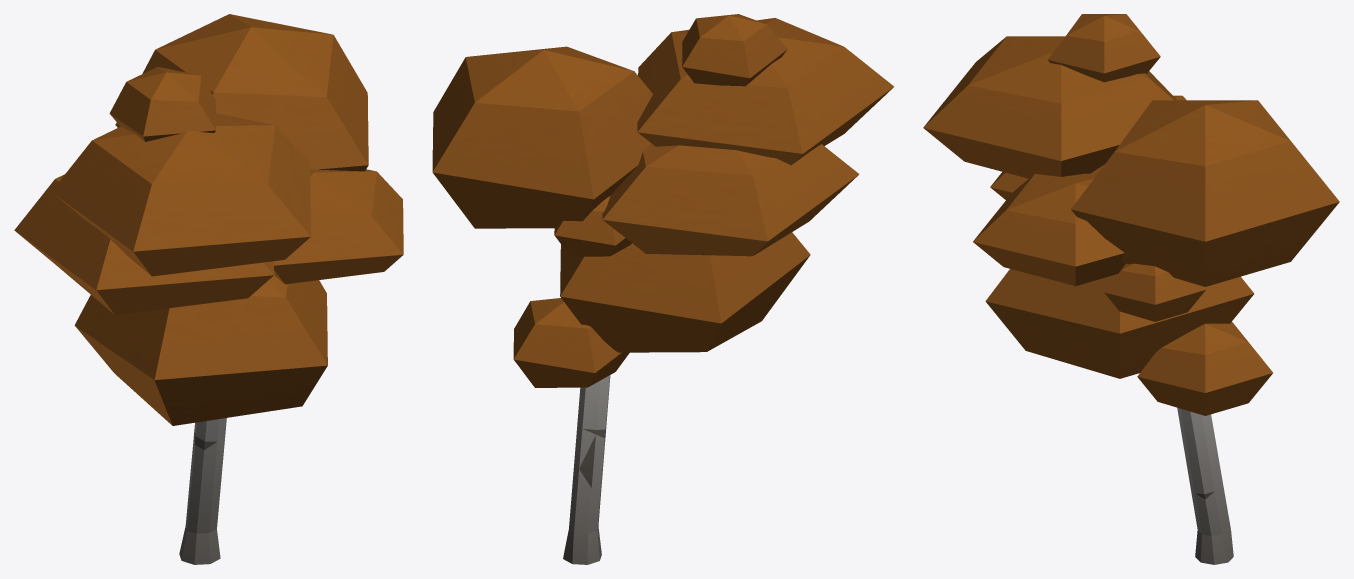
Rendered from arbol8.fbx.
3 renders of one model, left to right at view 1: azimuth 30°, elevation 25°; view 2: azimuth 150°, elevation 25°; view 3: azimuth 270°, elevation 25°, orthographic. The views are drawn at different scales.
Parts seen in each view (by area): view 1: arbol8; view 2: arbol8; view 3: arbol8.
Part boxes in pixels (box(x1,y1,x2,y2)): arbol8: box(14, 14, 403, 564); arbol8: box(432, 14, 894, 564); arbol8: box(923, 14, 1339, 564).
Size of the model in its own units: 2229 by 3251 by 2459.
